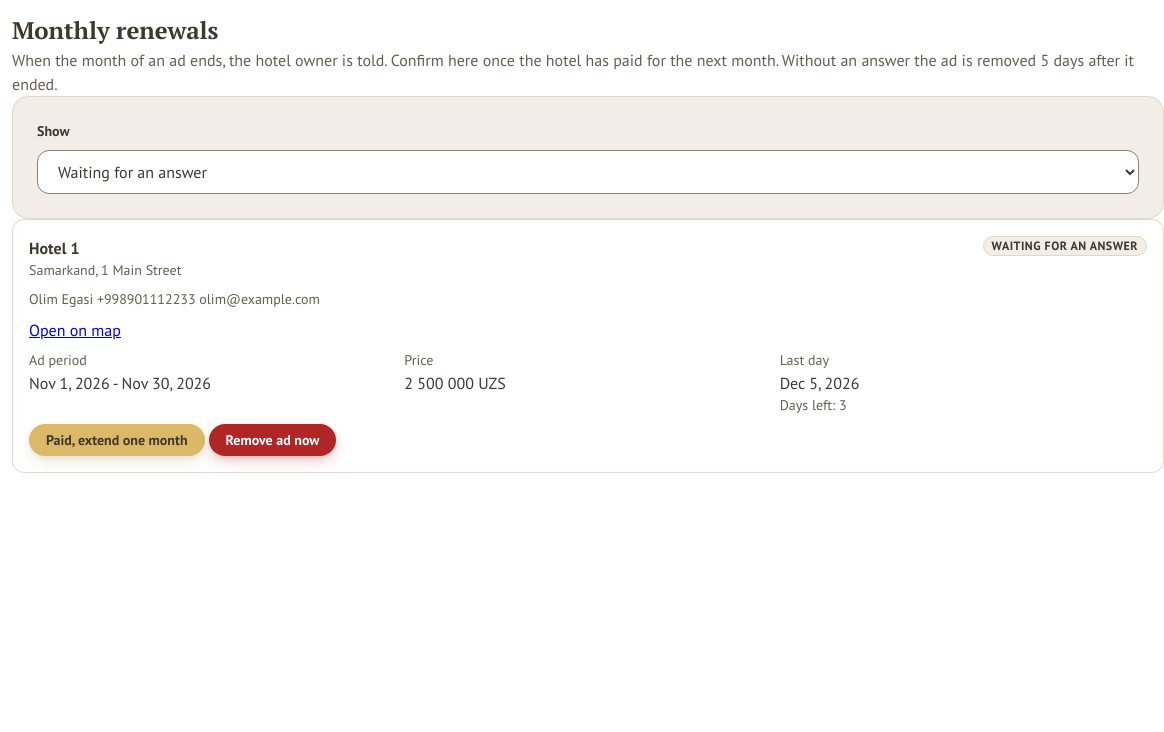
AdminPromotionRenewals › shows why an answer was refused, in the page language
The width and height of the screenshot is (1164, 732).
Click the button "Paid, extend one month".
click(117, 440)  # box [29, 424, 204, 456]
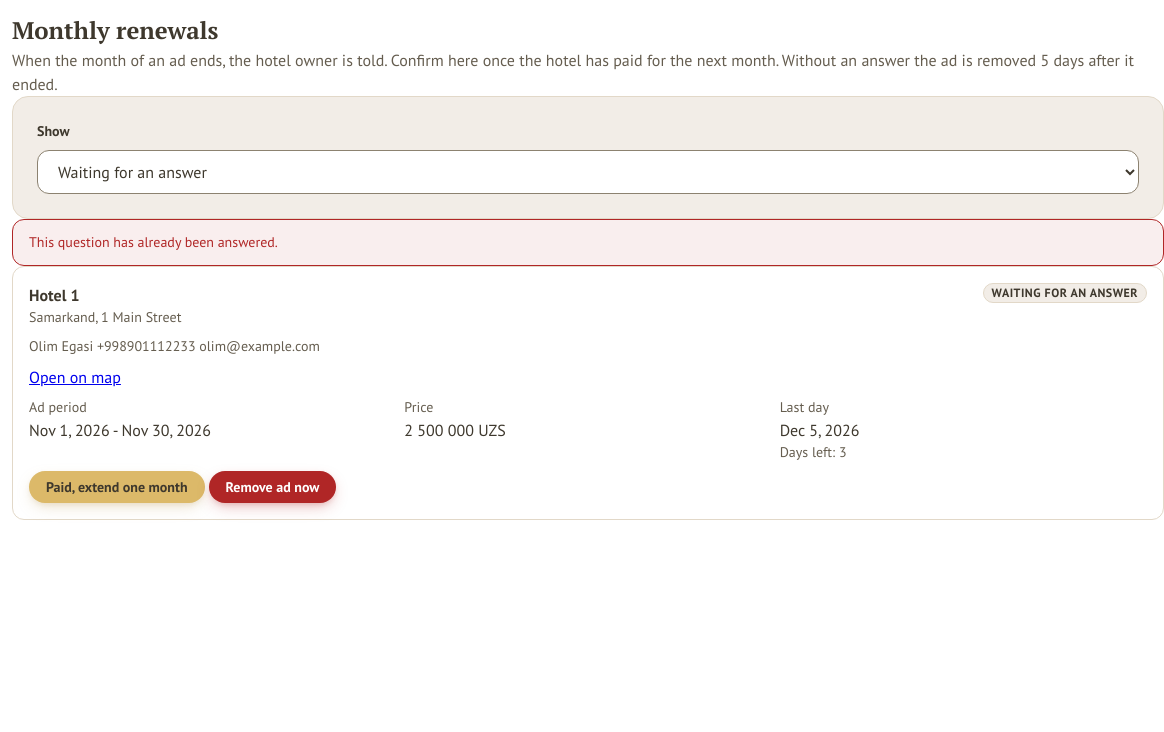
Now the message reads "This question has already been answered.", box [29, 233, 278, 251]
